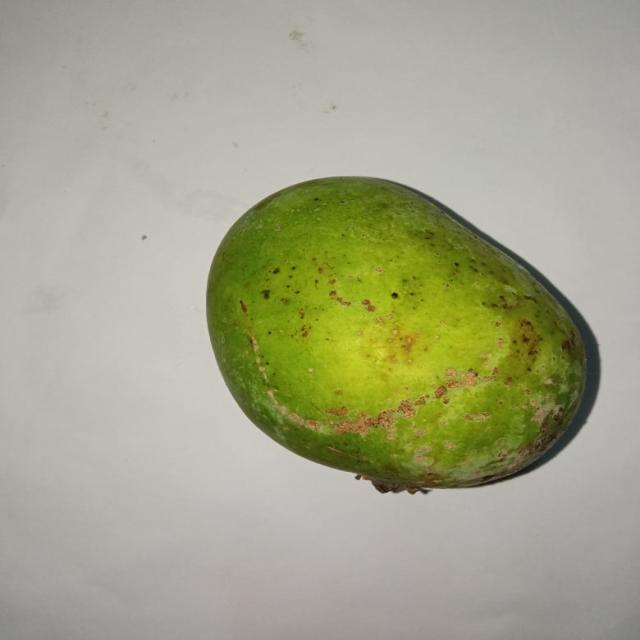fresh_mango: (203, 174, 582, 491)
